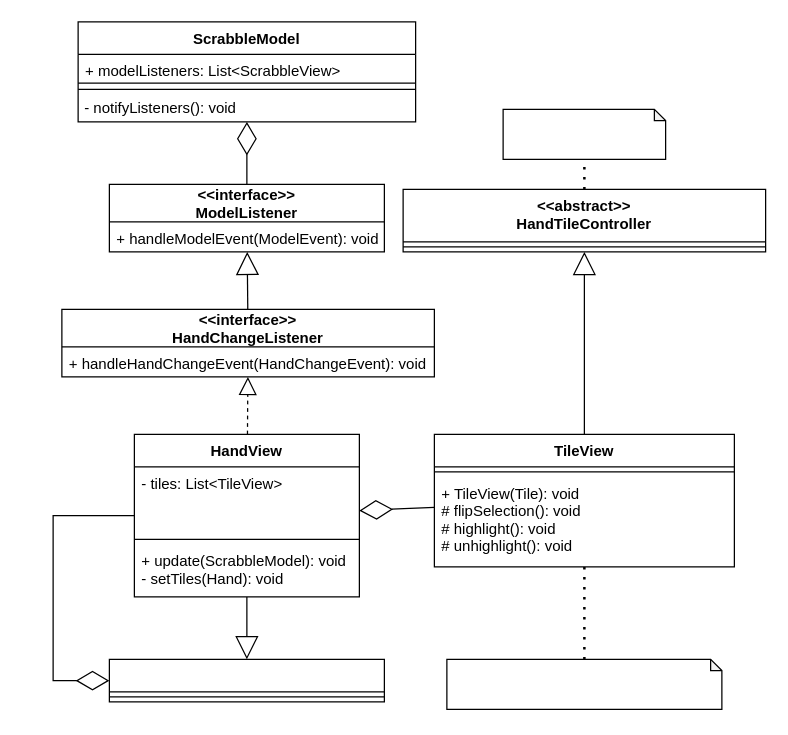
This 788x735 diagram has some shape labels left out. The centre of each missing label's shape, as x and y in pixels:
"Handles view aspect of letter Tile (extends select, highlight for indication)" belongs at pixel 584 683.
"JPanel" belongs at pixel 246 680.
"See controller UML" belongs at pixel 584 133.
